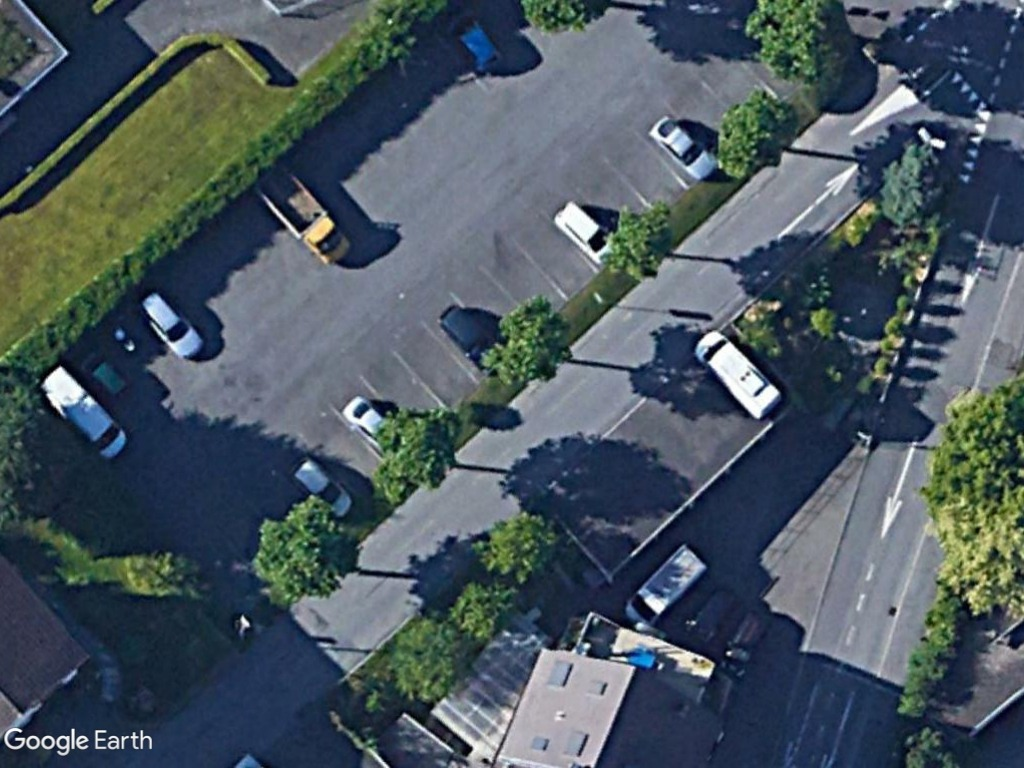car: (133, 291, 207, 364), (646, 115, 720, 181), (286, 457, 354, 519)
others: (247, 167, 352, 266)
van: (37, 364, 132, 466), (692, 326, 786, 423), (618, 542, 710, 630)
